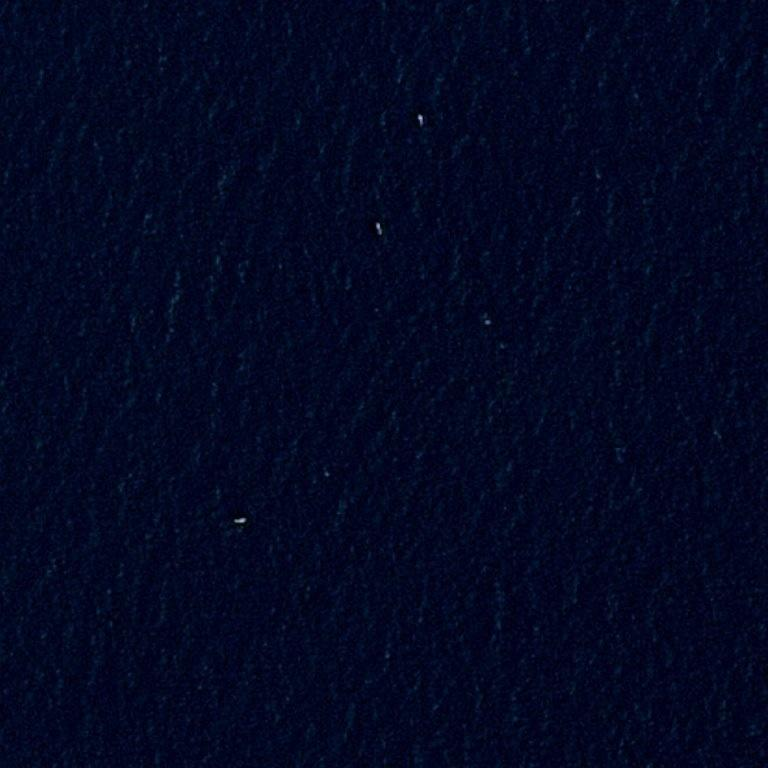ship: (230, 517, 236, 525), (380, 232, 383, 235), (379, 225, 380, 233), (420, 39, 421, 46), (244, 519, 246, 522), (377, 223, 380, 225), (419, 114, 421, 116), (4, 519, 6, 520), (235, 522, 236, 522), (378, 3, 378, 4), (419, 124, 421, 124), (423, 122, 423, 125)
